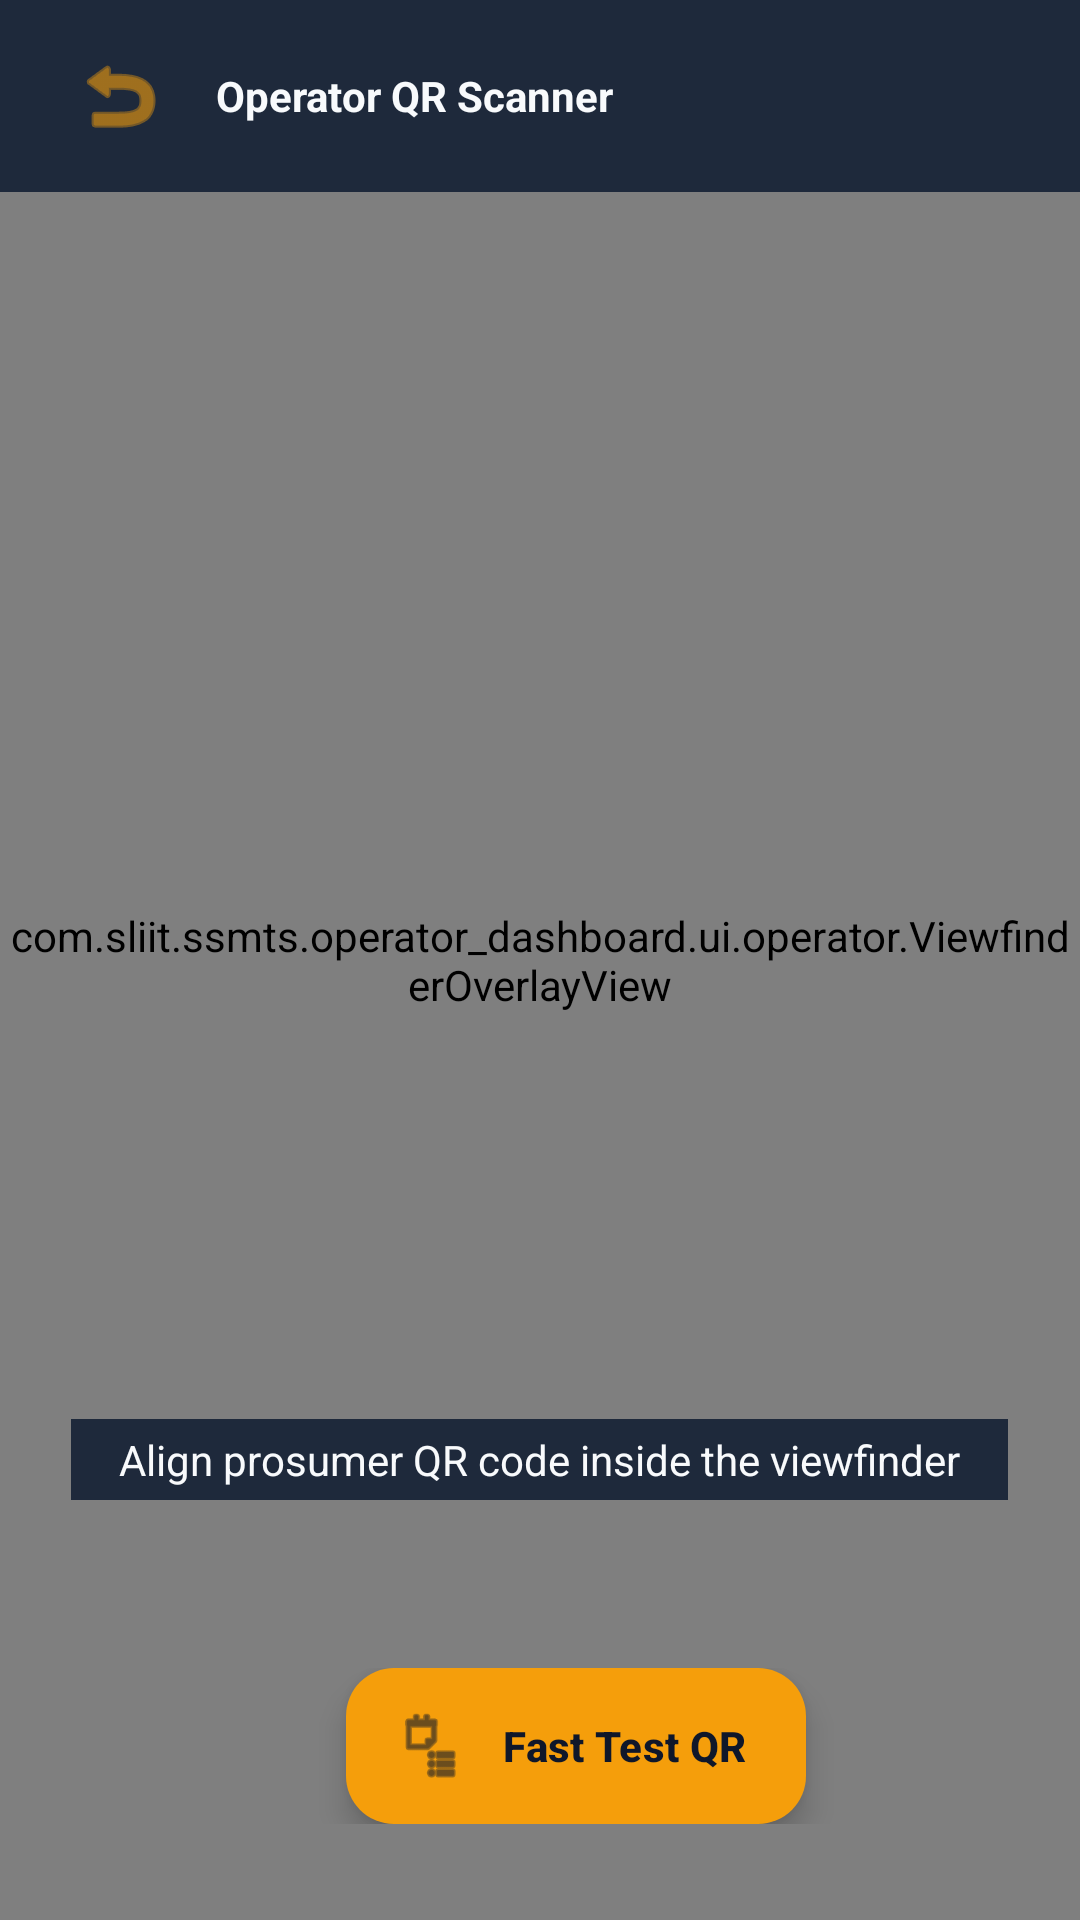

Icon click points for this 1080 x 1920 phone screenshot, format [x,y]:
Close Scanner: [121,96]
